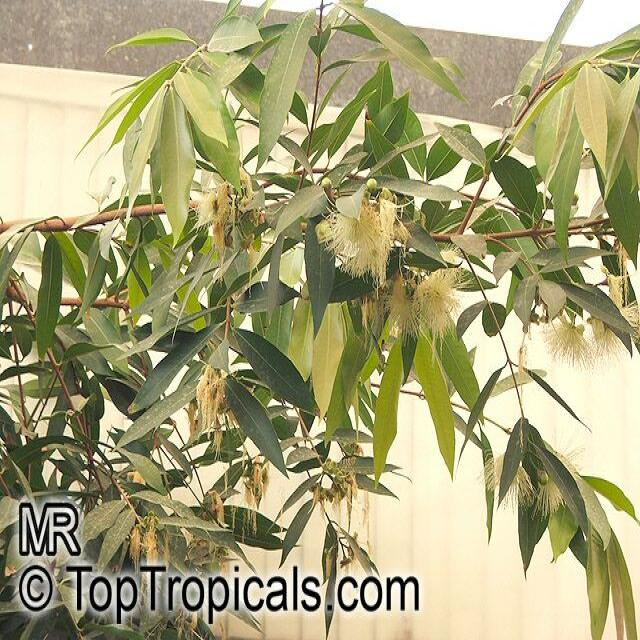Medicinal-Rose Apple: (1, 3, 640, 492)
